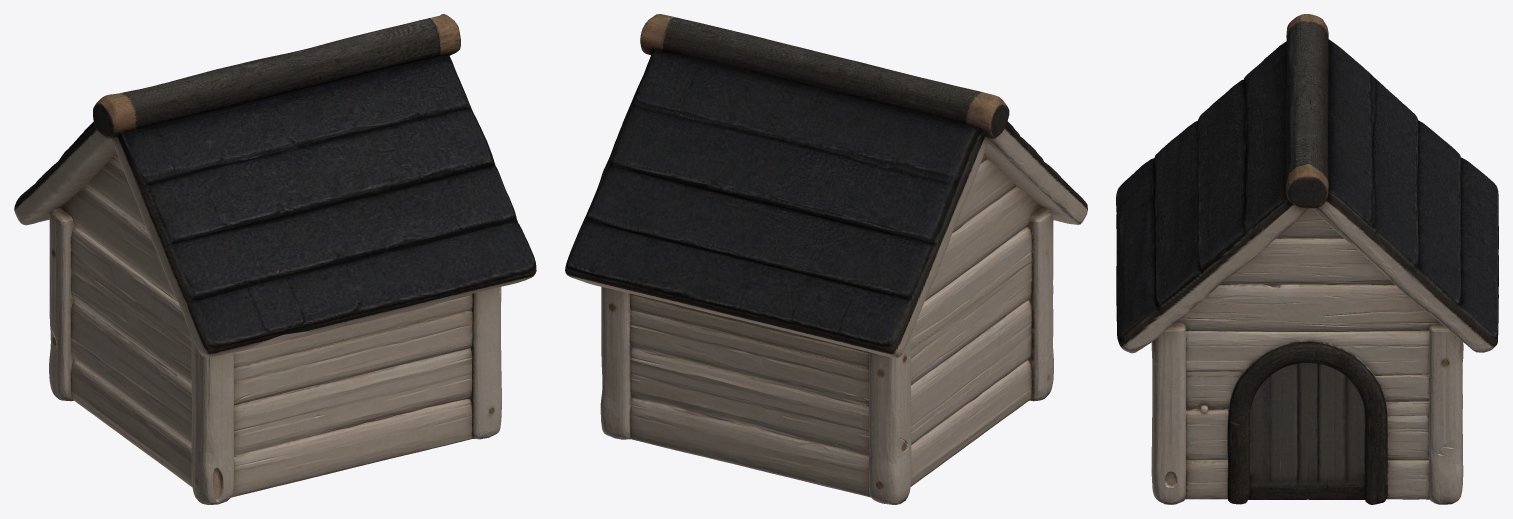
The model's file is DOM_budka_1__white.glb.
The picture shows the model from 3 angles, left to right: view 1: azimuth 30°, elevation 25°; view 2: azimuth 150°, elevation 25°; view 3: azimuth 270°, elevation 25°; orthographic projection. The views are drawn at different scales.
Visible parts, largest first — view 1: tripo_node_a16c2001-dc3b-4caf-992c-8e7d5bc2d146; view 2: tripo_node_a16c2001-dc3b-4caf-992c-8e7d5bc2d146; view 3: tripo_node_a16c2001-dc3b-4caf-992c-8e7d5bc2d146.
Boxes of the visible parts, x1,y1,x2,y2 form: tripo_node_a16c2001-dc3b-4caf-992c-8e7d5bc2d146: (14,14,536,504); tripo_node_a16c2001-dc3b-4caf-992c-8e7d5bc2d146: (565,14,1087,504); tripo_node_a16c2001-dc3b-4caf-992c-8e7d5bc2d146: (1116,14,1498,504).
Size of the model in its own units: 1 by 0.9777 by 0.9836.
1 material, 1 textured.
